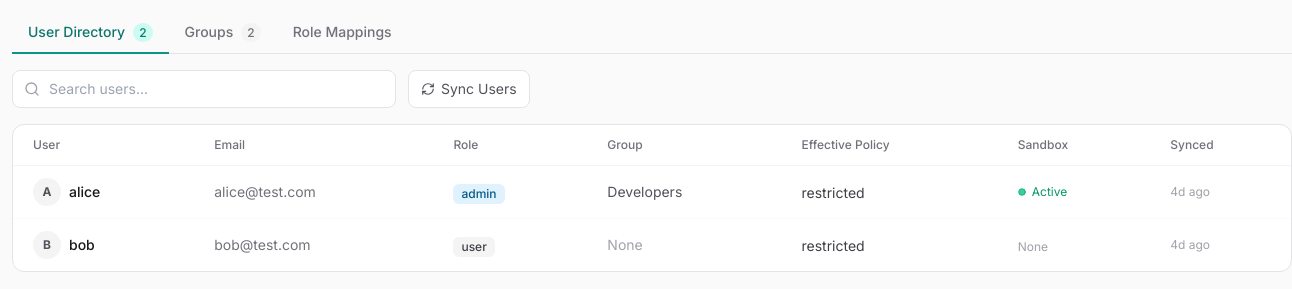
Test: UsersGroups page › filters users by search term
The width and height of the screenshot is (1292, 289).
Expected: the text "alice" is shown, [69,182,100,202]
In the field with placeholder "Search users...": (204, 89) [12,70,396,108], type "alice"
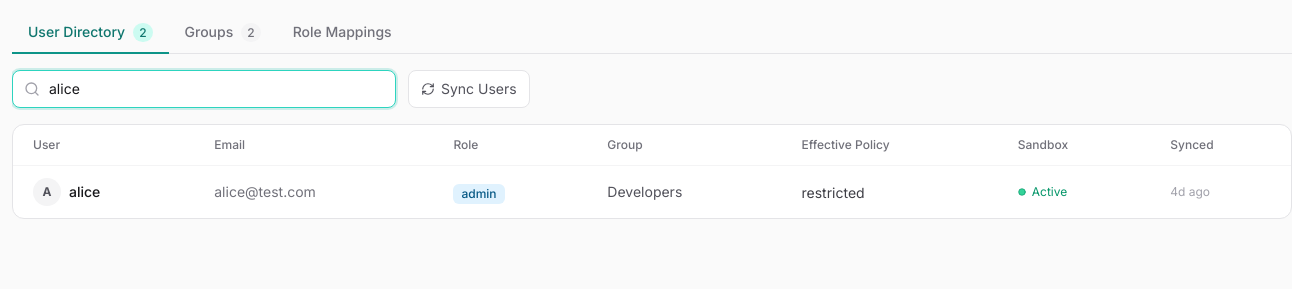
Expected: the text "alice" is shown, [69,182,100,202]
Expected: the text "bob" is gone
